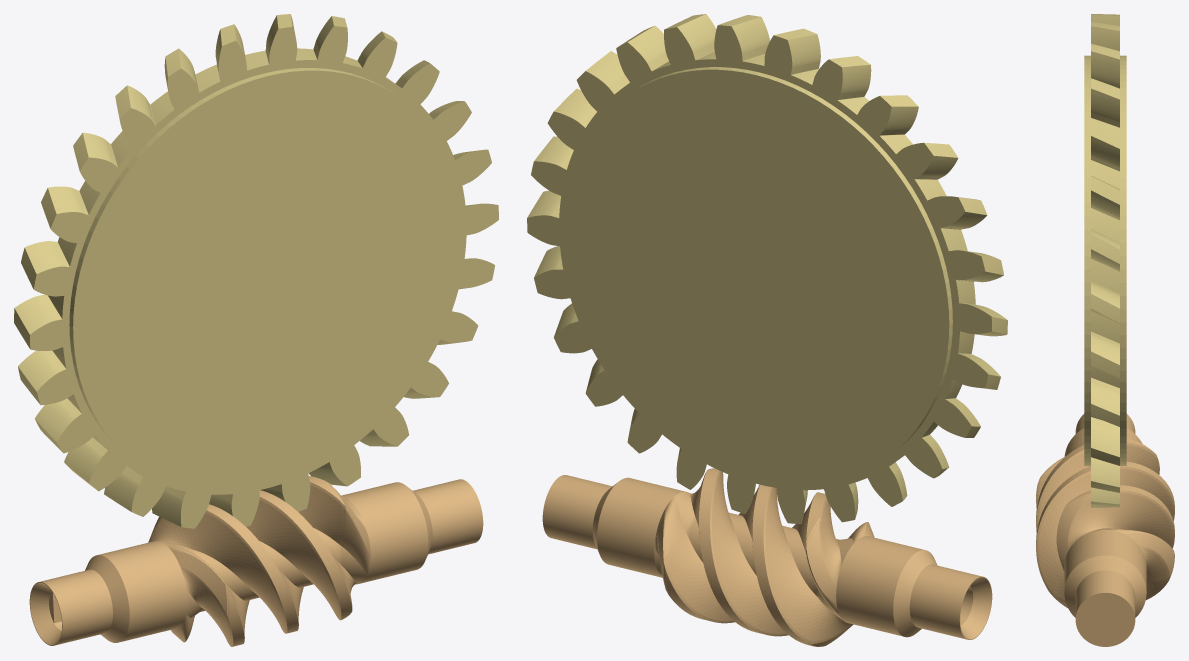
File: flat_worm_pair_demo.glb
The picture shows the model from 3 angles, left to right: view 1: azimuth 30°, elevation 25°; view 2: azimuth 150°, elevation 25°; view 3: azimuth 270°, elevation 25°; orthographic projection. The views are drawn at different scales.
Visible parts, largest first — view 1: helical_wheel_band, flat_input_worm; view 2: helical_wheel_band, flat_input_worm; view 3: flat_input_worm, helical_wheel_band.
Boxes of the visible parts, <box> form: helical_wheel_band: <box>14,14,498,528</box>; flat_input_worm: <box>29,476,483,646</box>; helical_wheel_band: <box>527,14,1007,524</box>; flat_input_worm: <box>542,468,992,646</box>; flat_input_worm: <box>1036,414,1174,646</box>; helical_wheel_band: <box>1084,14,1126,507</box>.
Bounding box in the file's own units: 40.9 × 50.41 × 11.5.
